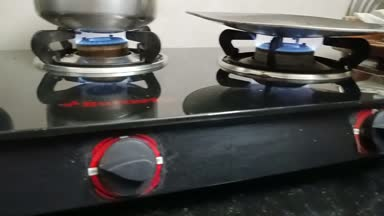flame_gas_on: (33, 22, 172, 198), (223, 27, 364, 82)
